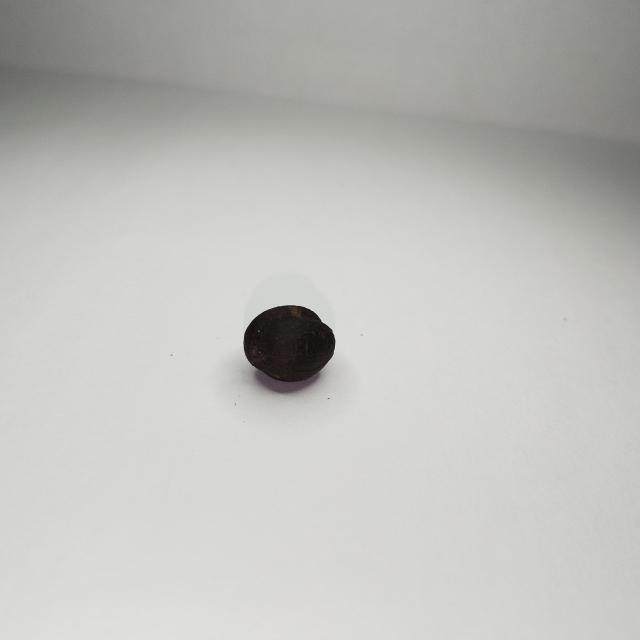Danado: (243, 305, 335, 390)
